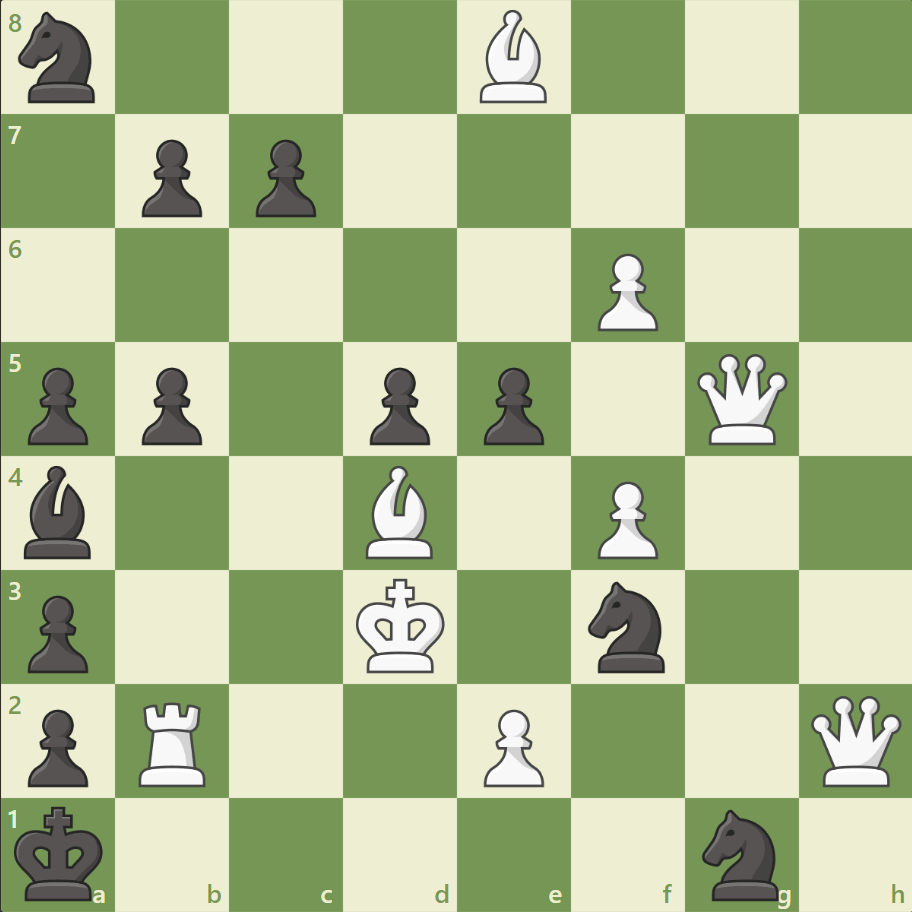B: (471, 6, 555, 109), (358, 460, 442, 563)
K: (351, 571, 451, 679)
P: (474, 700, 549, 791), (588, 246, 662, 337), (588, 473, 662, 564)
Q: (691, 349, 790, 449), (805, 690, 904, 789)
R: (133, 693, 215, 790)
b: (17, 460, 101, 563)
k: (11, 798, 111, 906)
n: (11, 7, 108, 110), (579, 575, 676, 677), (692, 802, 789, 904)
p: (133, 132, 208, 223), (247, 132, 322, 223), (20, 359, 95, 450), (133, 359, 208, 450), (474, 359, 549, 450), (20, 586, 95, 677), (20, 700, 95, 791), (361, 359, 435, 450)
